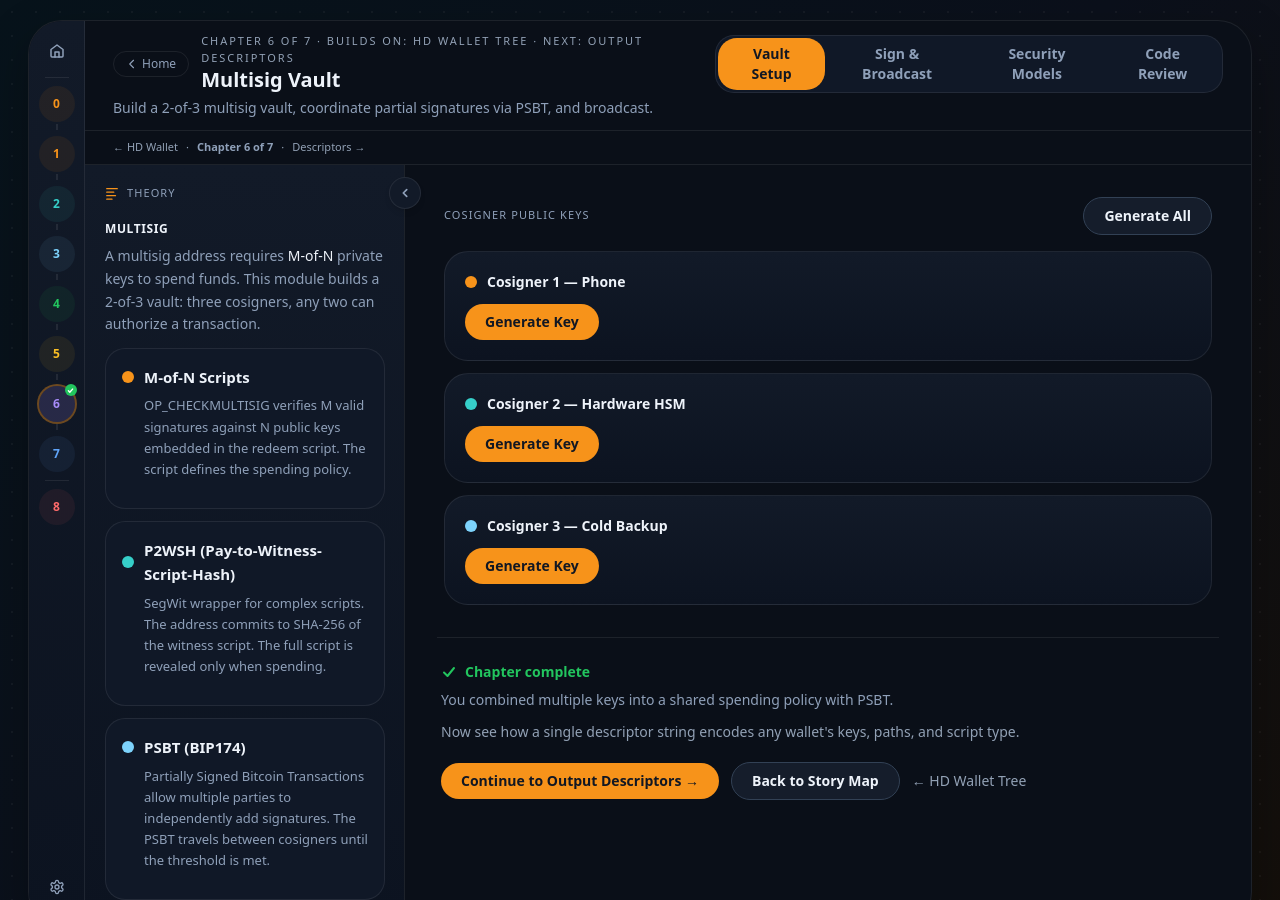
Scenario: MultisigVault › AC10: renders Security Models tab with Model A
Click the tab "Security Models" at (1037,64), box [969,38,1105,90]
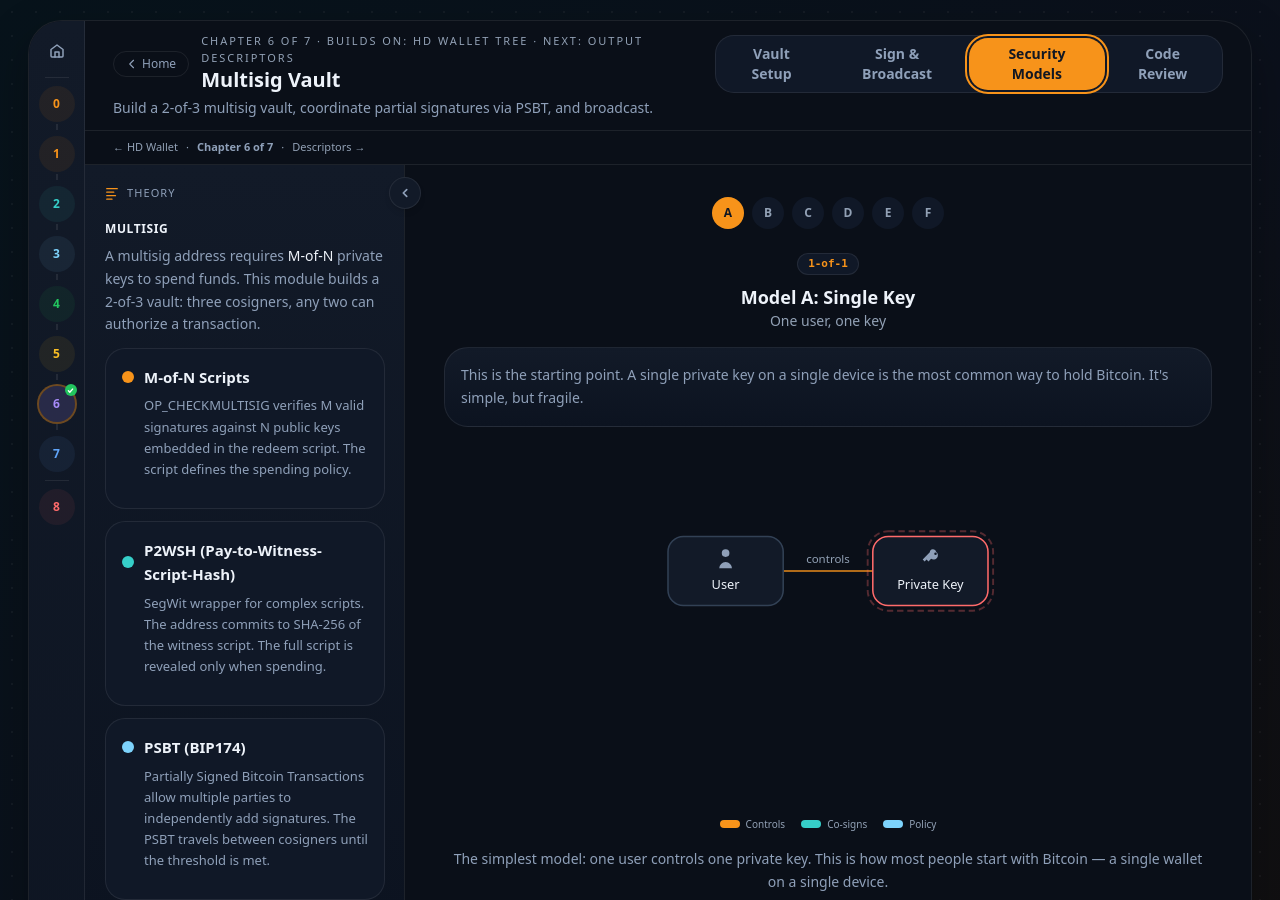
Check: the heading "Model A: Single Key" is shown, box [741,285,915,309]
